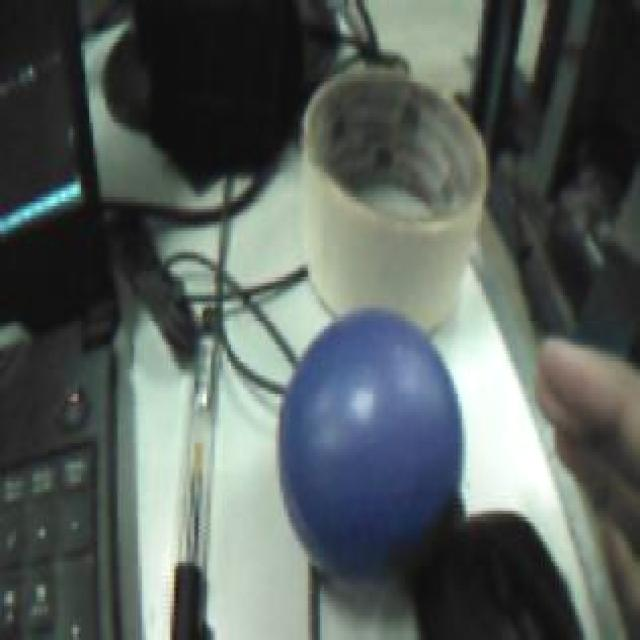BallPurple: (280, 308, 463, 583)
